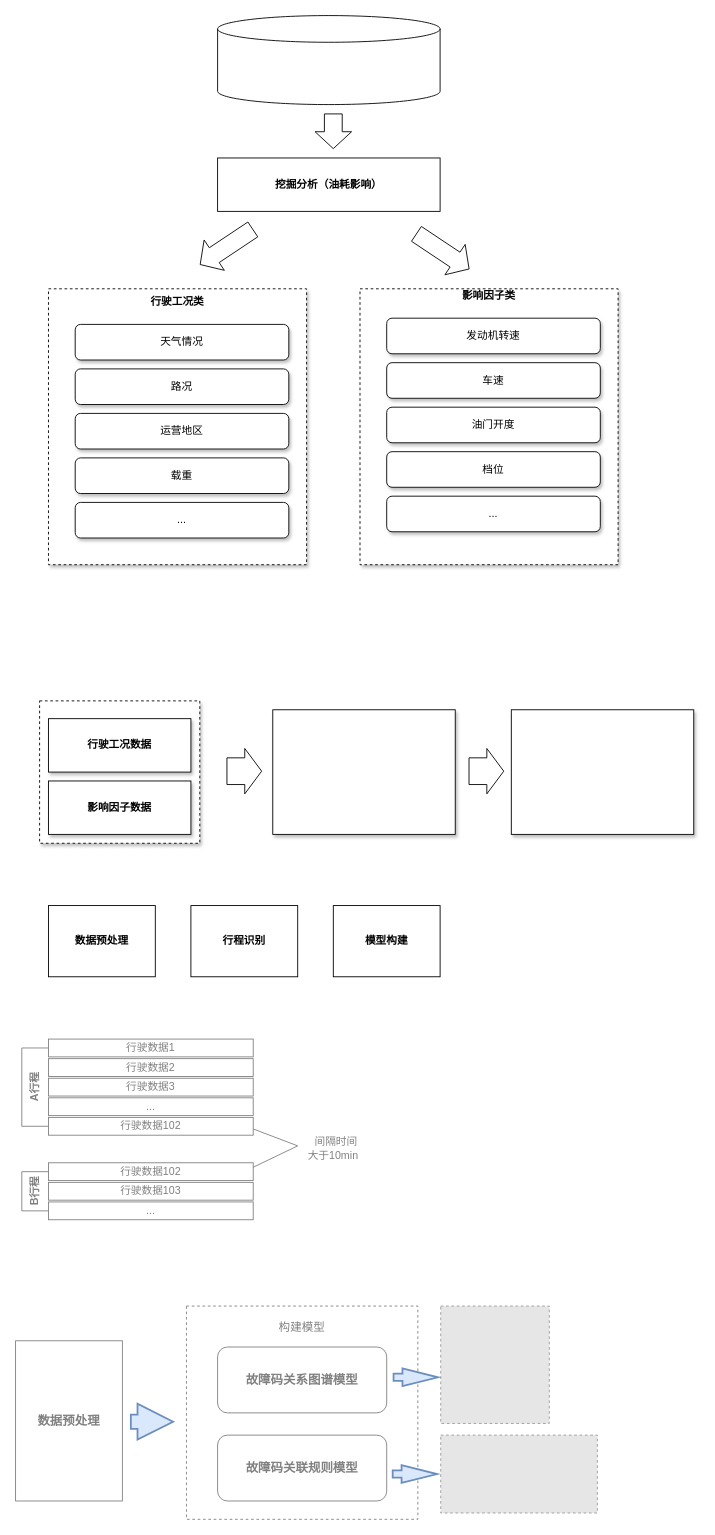
Image size: 715x1535. Some labels were removed from this diagram. Grey dashed boxes stand in for pictures. The shapes that lost their labels are listed below. From the top down, each one's centre as x and y in pixels, then its label:
the point at 328,60: 数据
the point at 364,773: 模型算法
the point at 603,773: 影响因子经济区间
